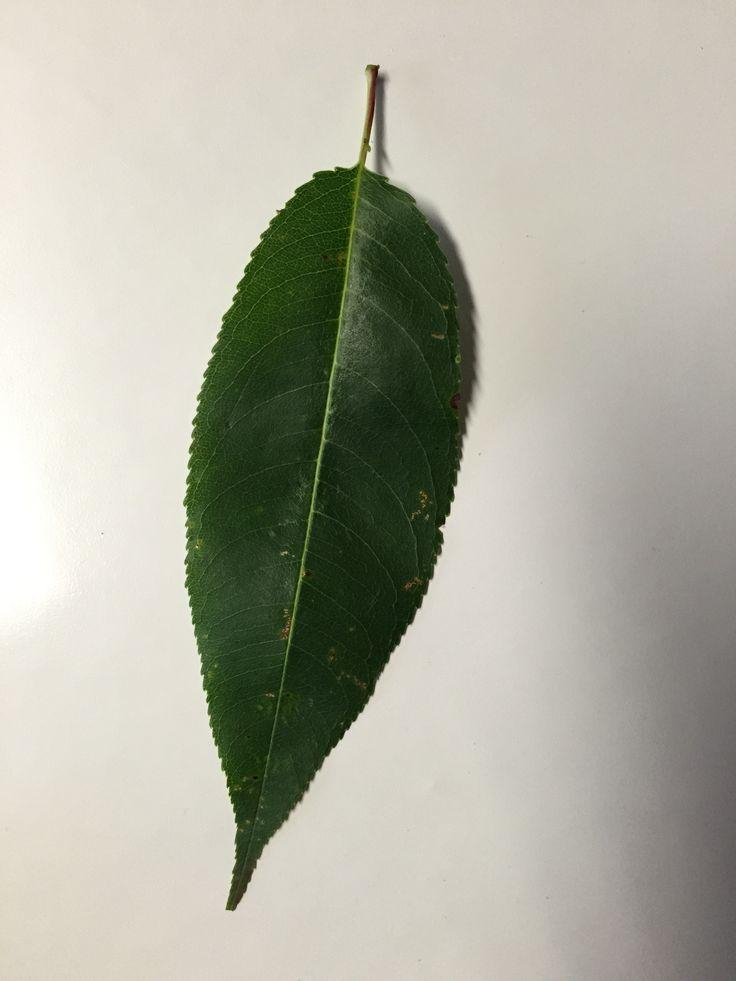Cherry leaf: (176, 154, 485, 934)
